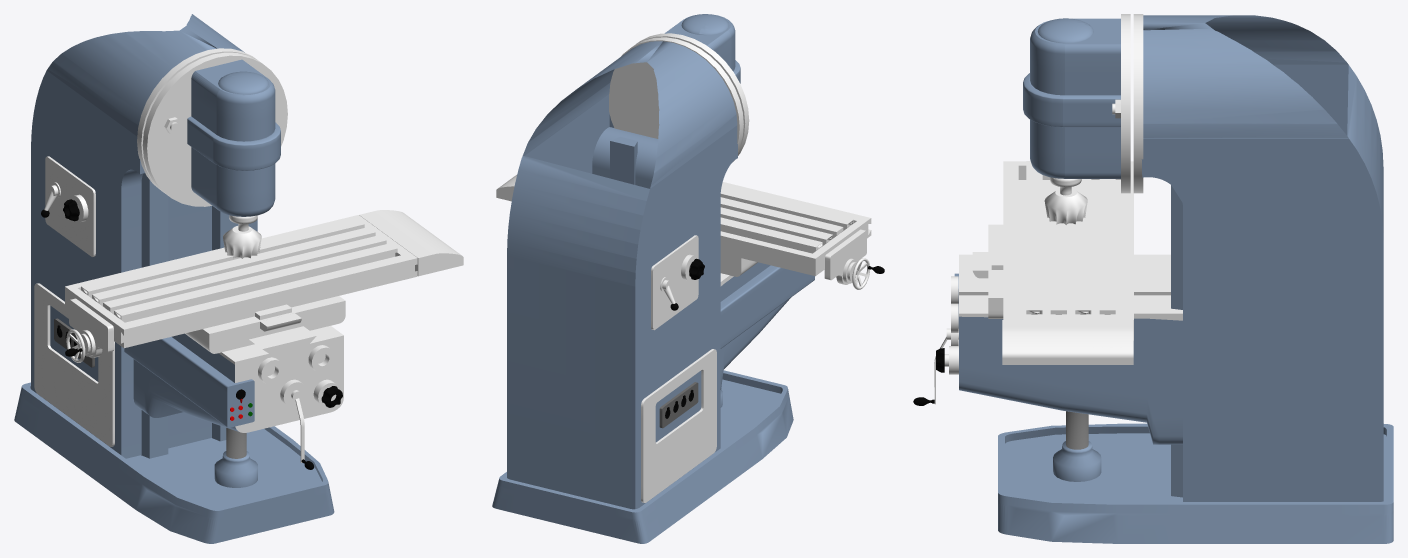
Rendered from lathe.obj.
3 views of the same model, side by side, from view 1: azimuth 30°, elevation 25°; view 2: azimuth 150°, elevation 25°; view 3: azimuth 270°, elevation 25° (orthographic). The views are drawn at different scales.
Visible parts, largest first — view 1: miller; view 2: miller; view 3: miller.
Part boxes in pixels (bbox=[...]): miller: bbox=[14, 14, 463, 543]; miller: bbox=[492, 14, 884, 543]; miller: bbox=[913, 14, 1393, 543].
Size of the model in its own units: 1.33 by 1.45 by 1.33.
